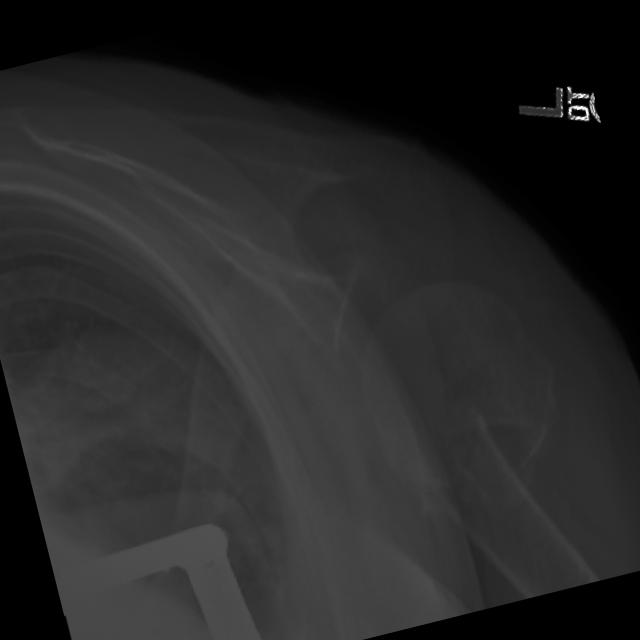shoulder fracture: (439, 371, 604, 530)
